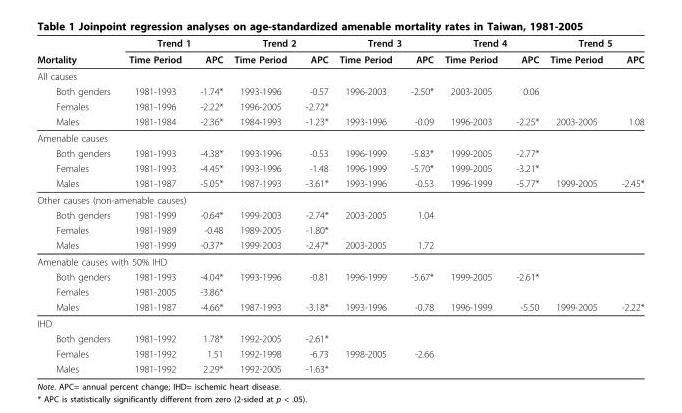table: (36, 36, 643, 374)
table column: (36, 36, 118, 374), (118, 36, 190, 374), (227, 36, 295, 374), (438, 36, 506, 374), (543, 36, 611, 374), (333, 36, 400, 374), (295, 36, 333, 374), (400, 36, 438, 374), (190, 36, 227, 374), (506, 36, 543, 374), (611, 36, 643, 374)
table column header: (36, 36, 643, 67)
table projected row header: (36, 67, 643, 83), (36, 129, 643, 145), (36, 191, 643, 207), (36, 314, 643, 330), (36, 253, 643, 268)
table row: (36, 50, 643, 67), (36, 67, 643, 83), (36, 113, 643, 129), (36, 129, 643, 145), (36, 175, 643, 191), (36, 191, 643, 207), (36, 237, 643, 253), (36, 283, 643, 299), (36, 314, 643, 330), (36, 83, 643, 98), (36, 98, 643, 113), (36, 145, 643, 160), (36, 160, 643, 175), (36, 207, 643, 222), (36, 222, 643, 237), (36, 253, 643, 268), (36, 268, 643, 283), (36, 299, 643, 314), (36, 330, 643, 345), (36, 345, 643, 360), (36, 36, 643, 50), (36, 360, 643, 374)
table spanning cell: (36, 36, 118, 67), (118, 36, 227, 50), (227, 36, 333, 50), (333, 36, 438, 50), (438, 36, 543, 50), (543, 36, 643, 50)
